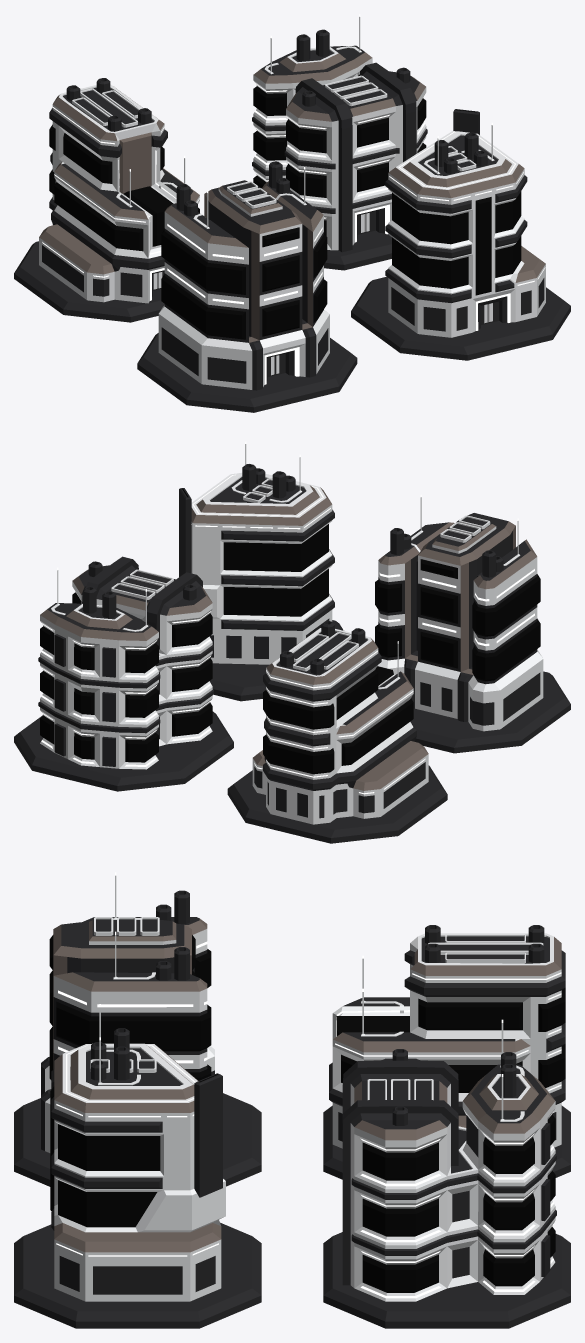
3 renders of one model, top to bottom at view 1: azimuth 30°, elevation 25°; view 2: azimuth 150°, elevation 25°; view 3: azimuth 270°, elevation 25°, orthographic. The views are drawn at different scales.
Visible parts, largest first — view 1: Apartment_lvl2_1_Body, Apartment_lvl2_2_Body, Apartment_lvl2_4_Body, Apartment_lvl2_3_Body, Apartment_lvl2_2_Foundation, Apartment_lvl2_1_Foundation, Apartment_lvl2_3_Foundation, Apartment_lvl2_3_Parts, Apartment_lvl2_4_Parts, Apartment_lvl2_4_Foundation, Apartment_lvl2_2_Parts; view 2: Apartment_lvl2_1_Body, Apartment_lvl2_4_Body, Apartment_lvl2_3_Body, Apartment_lvl2_2_Body, Apartment_lvl2_4_Foundation, Apartment_lvl2_3_Foundation, Apartment_lvl2_1_Foundation, Apartment_lvl2_4_Parts, Apartment_lvl2_3_Parts, Apartment_lvl2_2_Foundation, Apartment_lvl2_2_Parts; view 3: Apartment_lvl2_4_Body, Apartment_lvl2_2_Body, Apartment_lvl2_3_Body, Apartment_lvl2_1_Body, Apartment_lvl2_2_Foundation, Apartment_lvl2_4_Foundation, Apartment_lvl2_1_Foundation, Apartment_lvl2_3_Parts, Apartment_lvl2_4_Parts, Apartment_lvl2_2_Parts, Apartment_lvl2_3_Foundation.
Boxes of the visible parts, left/top/right/bottom form: Apartment_lvl2_1_Body: left=158, top=161, right=329, bottom=390; Apartment_lvl2_2_Body: left=385, top=109, right=545, bottom=337; Apartment_lvl2_4_Body: left=252, top=45, right=427, bottom=252; Apartment_lvl2_3_Body: left=39, top=84, right=199, bottom=303; Apartment_lvl2_2_Foundation: left=351, top=276, right=570, bottom=360; Apartment_lvl2_1_Foundation: left=137, top=333, right=357, bottom=412; Apartment_lvl2_3_Foundation: left=14, top=241, right=164, bottom=322; Apartment_lvl2_3_Parts: left=66, top=78, right=185, bottom=207; Apartment_lvl2_4_Parts: left=264, top=14, right=410, bottom=106; Apartment_lvl2_4_Foundation: left=324, top=230, right=391, bottom=270; Apartment_lvl2_2_Parts: left=424, top=122, right=494, bottom=174; Apartment_lvl2_1_Body: left=375, top=494, right=543, bottom=731; Apartment_lvl2_4_Body: left=38, top=556, right=213, bottom=769; Apartment_lvl2_3_Body: left=252, top=628, right=428, bottom=824; Apartment_lvl2_2_Body: left=179, top=472, right=334, bottom=664; Apartment_lvl2_4_Foundation: left=14, top=711, right=233, bottom=791; Apartment_lvl2_3_Foundation: left=227, top=765, right=447, bottom=843; Apartment_lvl2_1_Foundation: left=411, top=671, right=570, bottom=753; Apartment_lvl2_4_Parts: left=51, top=561, right=196, bottom=631; Apartment_lvl2_3_Parts: left=280, top=620, right=400, bottom=689; Apartment_lvl2_2_Foundation: left=209, top=620, right=343, bottom=701; Apartment_lvl2_2_Parts: left=231, top=441, right=302, bottom=502; Apartment_lvl2_4_Body: left=342, top=1058, right=556, bottom=1301; Apartment_lvl2_2_Body: left=50, top=1043, right=225, bottom=1301; Apartment_lvl2_3_Body: left=329, top=933, right=565, bottom=1148; Apartment_lvl2_1_Body: left=41, top=872, right=214, bottom=1152; Apartment_lvl2_2_Foundation: left=14, top=1222, right=261, bottom=1328; Apartment_lvl2_4_Foundation: left=323, top=1232, right=570, bottom=1328; Apartment_lvl2_1_Foundation: left=14, top=1093, right=261, bottom=1186; Apartment_lvl2_3_Parts: left=361, top=925, right=544, bottom=1036; Apartment_lvl2_4_Parts: left=367, top=1019, right=524, bottom=1125; Apartment_lvl2_2_Parts: left=90, top=1004, right=156, bottom=1085; Apartment_lvl2_3_Foundation: left=323, top=1105, right=570, bottom=1179.
Size of the model in its own units: 3600 by 1775 by 3600.
Materials: 1 (1 with a texture image).
